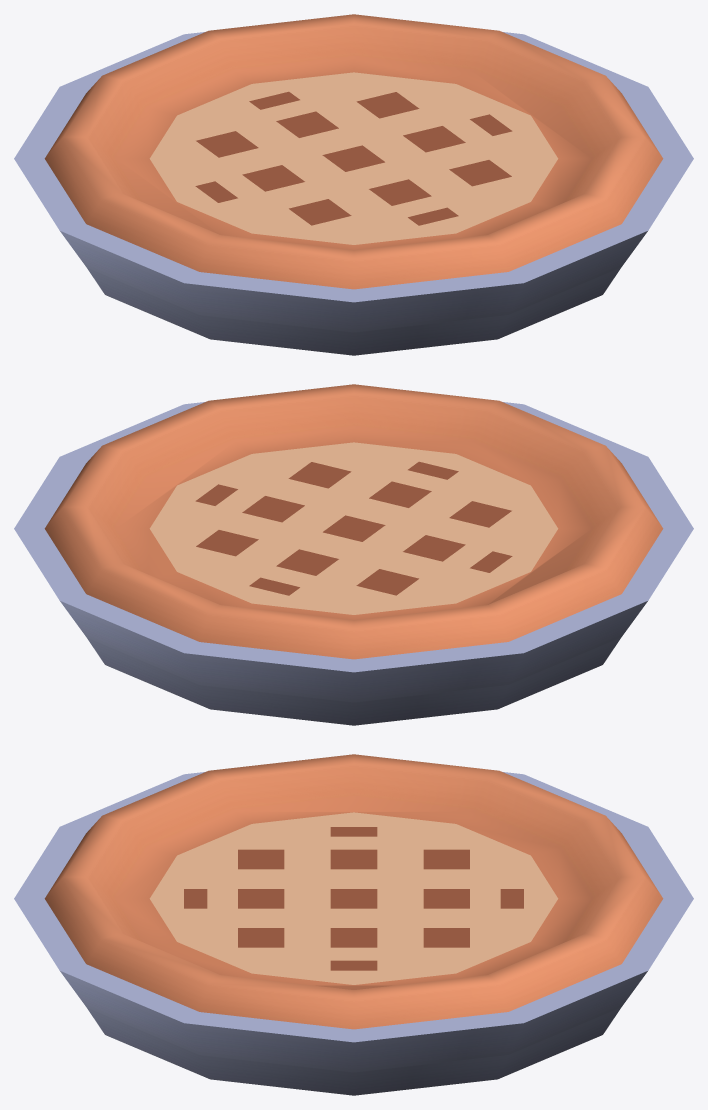
The model's file is cheesecake-berry.glb.
3 views of the same model, one above another, from view 1: azimuth 30°, elevation 25°; view 2: azimuth 150°, elevation 25°; view 3: azimuth 270°, elevation 25° (orthographic).
Visible parts, largest first — view 1: dish; view 2: dish; view 3: dish.
Boxes of the visible parts, <box> form: dish: <box>14,14,693,355</box>; dish: <box>14,384,693,725</box>; dish: <box>14,754,693,1095</box>.
Size of the model in its own units: 0.152 by 0.0239 by 0.152.
1 material, 1 textured.
